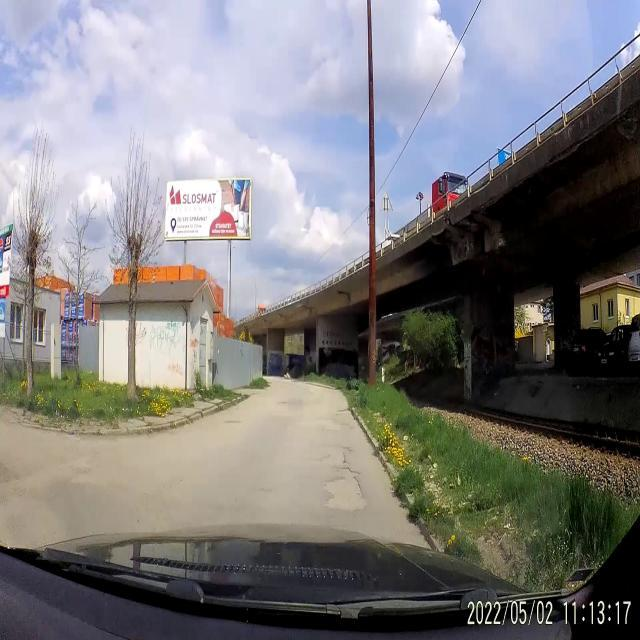Pothole: (322, 466, 367, 514), (323, 443, 353, 466), (333, 404, 353, 418), (223, 417, 244, 429), (274, 397, 290, 407)
